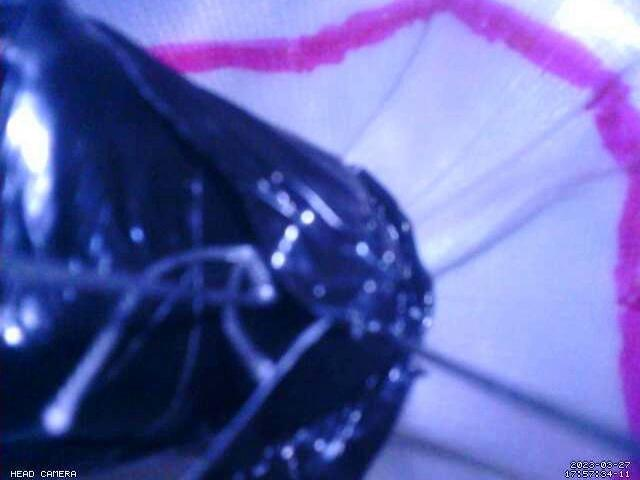red-circle: (143, 0, 640, 480)
